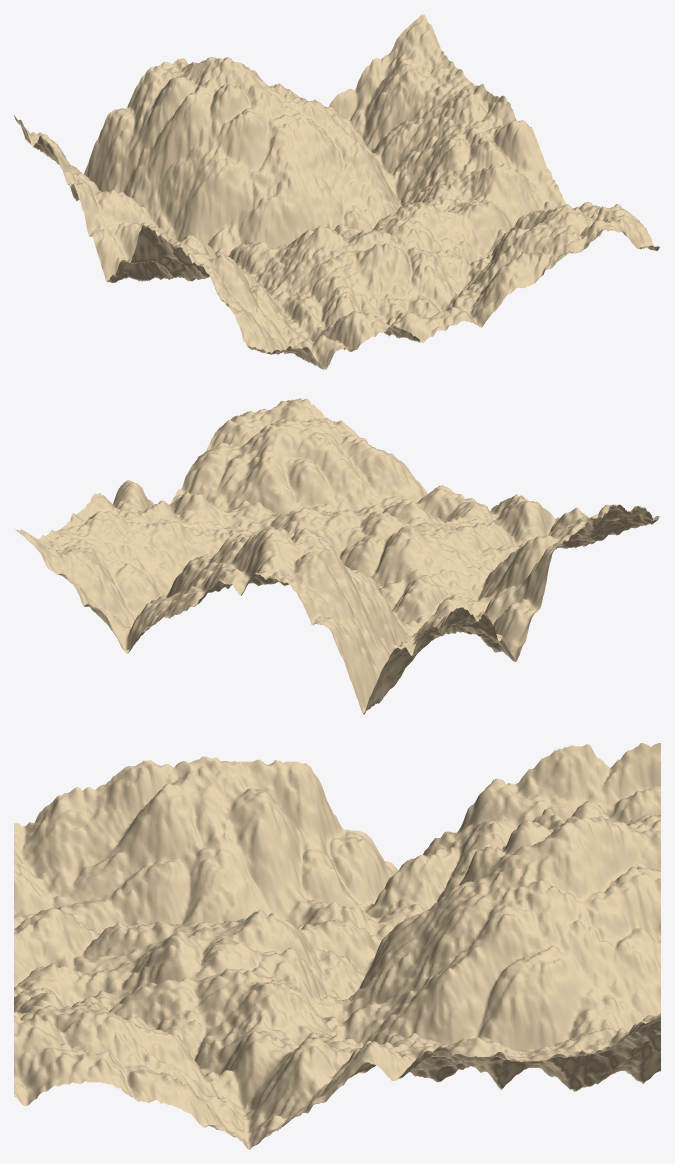
The picture shows the model from 3 angles, top to bottom: view 1: azimuth 30°, elevation 25°; view 2: azimuth 150°, elevation 25°; view 3: azimuth 270°, elevation 25°; orthographic projection. The views are drawn at different scales.
Bounding box in the file's own units: 450 × 142 × 450.
